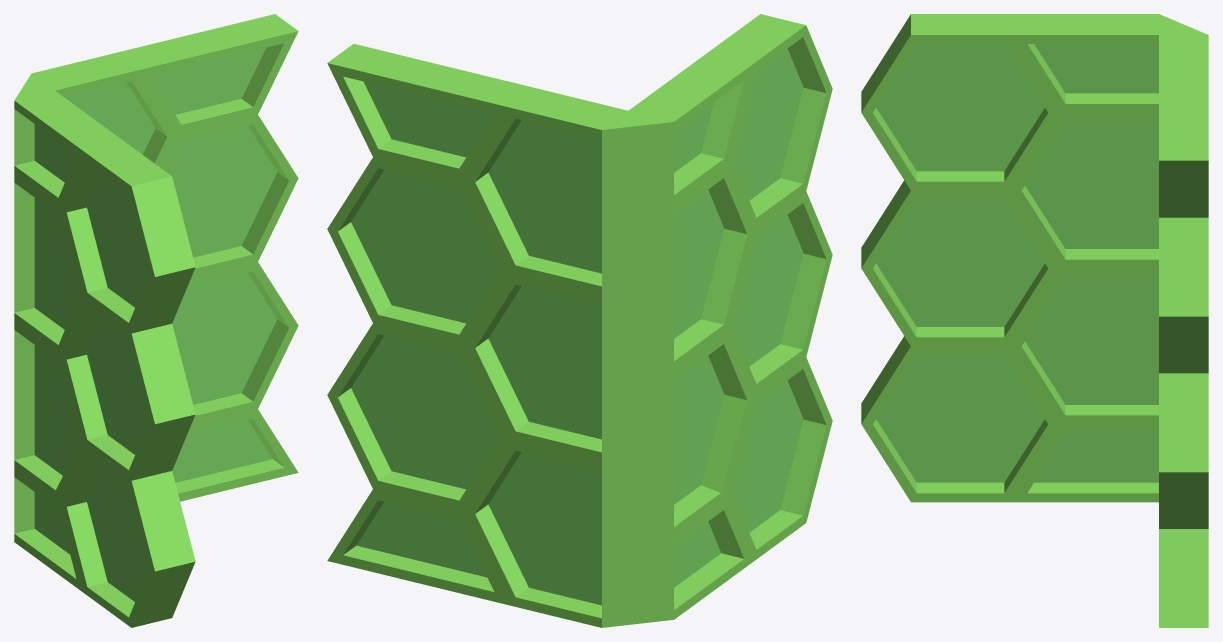
File: cell_wall_corner.fbx
3 views of the same model, side by side, from view 1: azimuth 30°, elevation 25°; view 2: azimuth 150°, elevation 25°; view 3: azimuth 270°, elevation 25° (orthographic). The views are drawn at different scales.
Parts seen in each view (by area): view 1: Circle.002; view 2: Circle.002; view 3: Circle.002.
Boxes of the visible parts, <box> form: Circle.002: <box>14,14,298,627</box>; Circle.002: <box>327,14,832,627</box>; Circle.002: <box>861,14,1208,627</box>.
Bounding box in the file's own units: 350 × 520 × 350.
